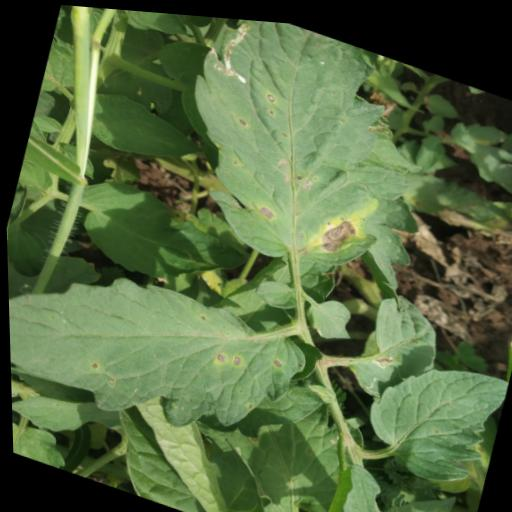Early Blight: (155, 10, 454, 295), (5, 231, 311, 466)
